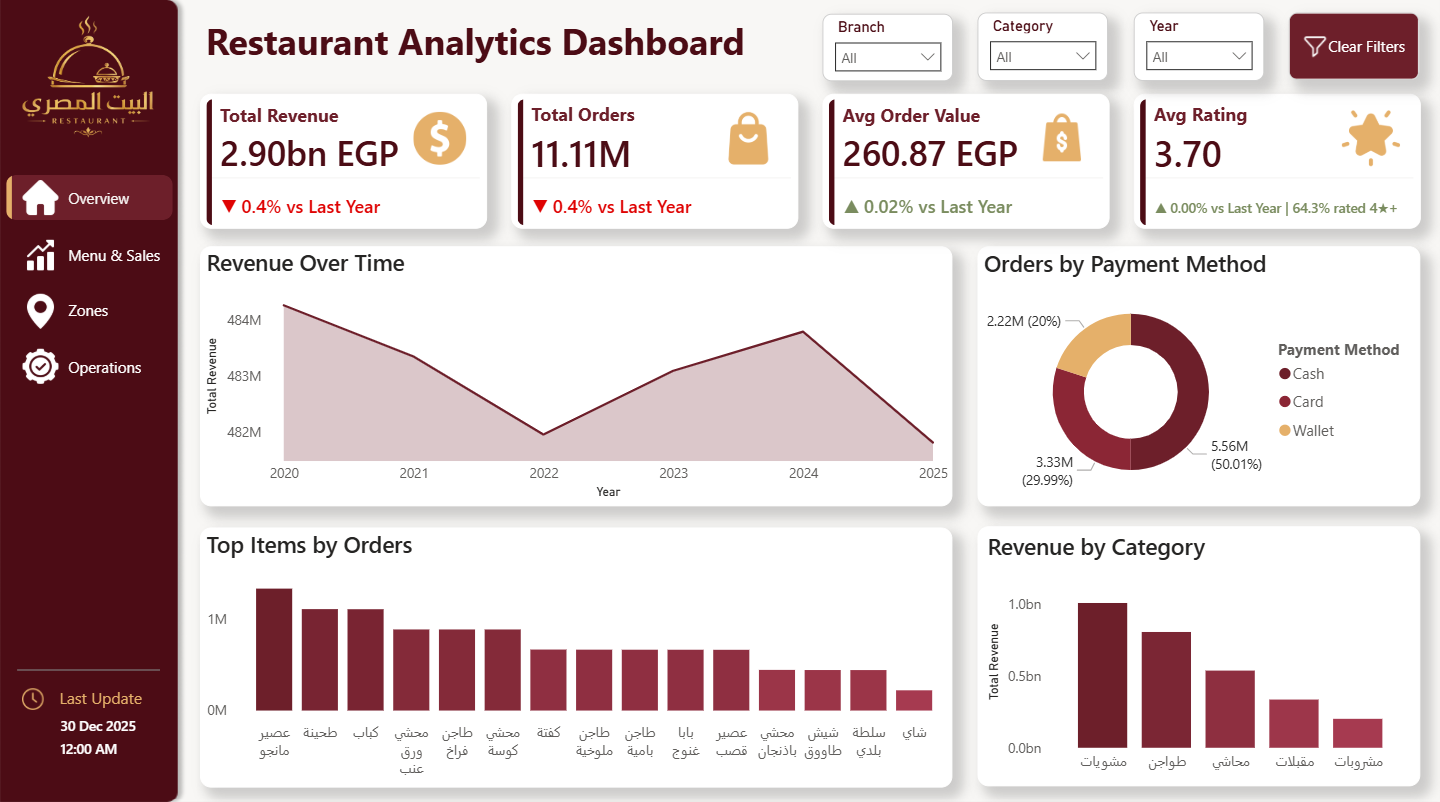

Layout of this report page (visuals, bound fields, positions):
{"tool":"powerbi","page":{"name":"Overview","canvas":[1280,720],"ordinal":0},"visuals":[{"type":"cardVisual","fields":{"Data":["Page1_Measures.Total Revenue Card"]},"box":[177.5,83.8,255,120],"z":0},{"type":"cardVisual","fields":{"Data":["Measures_Table.#Orders"]},"box":[454.2,83.5,255,120],"z":1000},{"type":"pageNavigator","box":[5.9,155.9,148.2,190],"z":2000},{"type":"image","box":[20.5,159.5,31.9,31.4],"z":3000},{"type":"image","box":[20.5,211,31.9,31.4],"z":4000},{"type":"image","box":[20.5,261,31.9,31.4],"z":5000},{"type":"image","box":[20.5,310.5,31.9,31.4],"z":6000},{"type":"textbox","box":[177.5,11.2,1085,60],"z":7000},{"type":"cardVisual","fields":{"Data":["Measures_Table.Avg Rating"]},"box":[1007.5,83.8,255,120],"z":8000},{"type":"lineChart","title":"Revenue Over Time","fields":{"Category":["restaurant_final.Year"],"Y":["Measures_Table.Total Revenue"]},"box":[177.8,218.9,668.9,231.1],"z":9000},{"type":"donutChart","title":"Orders by Payment Method","fields":{"Y":["Measures_Table.#Orders"],"Category":["restaurant_final.payment_method"]},"box":[868.9,218.9,393.3,231.1],"z":10000},{"type":"clusteredColumnChart","title":"Revenue by Category","fields":{"Category":["restaurant_final.category"],"Y":["Measures_Table.Total Revenue"]},"box":[868.9,467.8,393.3,231.1],"z":11000},{"type":"clusteredColumnChart","title":"Top Items by Orders","fields":{"Category":["restaurant_final.item_name"],"Y":["Measures_Table.#Orders"]},"box":[177.8,468.9,668.9,231.1],"z":12000},{"type":"shape","box":[15.6,583.3,126.7,24.4],"z":13000},{"type":"slicer","fields":{"Values":["restaurant_final.branch"]},"box":[731,12,116,60],"z":14000},{"type":"slicer","fields":{"Values":["restaurant_final.category"]},"box":[869.2,10.9,116.2,60.5],"z":15000},{"type":"slicer","fields":{"Values":["restaurant_final.Year"]},"box":[1007.6,10.9,116.2,60.5],"z":16000},{"type":"actionButton","box":[1146,11,116,60],"z":17000},{"type":"actionButton","box":[15.5,608.2,28.2,27.3],"z":18000},{"type":"textbox","box":[48.1,608.1,94.4,27.5],"z":19000},{"type":"image","box":[8.2,11.8,140.9,120.9],"z":20000},{"type":"cardVisual","fields":{"Data":["Measures_Table.Last Updated"]},"box":[36.7,622,106,61.3],"z":21000},{"type":"cardVisual","fields":{"Data":["Measures_Table.Avg Order Value Card"]},"box":[731.2,83.8,255,120],"z":22000}]}

Visuals, with their boxes in screenshot pixels (x1, y1, x2, y2), scaled from the page's 1280x720 canvas onto the 1440x802 screenshot:
cardVisual - Page1_Measures.Total Revenue Card: x1=200, y1=93, x2=487, y2=227
cardVisual - Measures_Table.#Orders: x1=511, y1=93, x2=798, y2=227
pageNavigator: x1=7, y1=174, x2=173, y2=385
image: x1=23, y1=178, x2=59, y2=213
image: x1=23, y1=235, x2=59, y2=270
image: x1=23, y1=291, x2=59, y2=326
image: x1=23, y1=346, x2=59, y2=381
textbox: x1=200, y1=12, x2=1420, y2=79
cardVisual - Measures_Table.Avg Rating: x1=1133, y1=93, x2=1420, y2=227
"Revenue Over Time" lineChart: x1=200, y1=244, x2=953, y2=501
"Orders by Payment Method" donutChart: x1=978, y1=244, x2=1420, y2=501
"Revenue by Category" clusteredColumnChart: x1=978, y1=521, x2=1420, y2=778
"Top Items by Orders" clusteredColumnChart: x1=200, y1=522, x2=953, y2=780
shape: x1=18, y1=650, x2=160, y2=677
slicer - restaurant_final.branch: x1=822, y1=13, x2=953, y2=80
slicer - restaurant_final.category: x1=978, y1=12, x2=1109, y2=80
slicer - restaurant_final.Year: x1=1134, y1=12, x2=1264, y2=80
actionButton: x1=1289, y1=12, x2=1420, y2=79
actionButton: x1=17, y1=677, x2=49, y2=708
textbox: x1=54, y1=677, x2=160, y2=708
image: x1=9, y1=13, x2=168, y2=148
cardVisual - Measures_Table.Last Updated: x1=41, y1=693, x2=161, y2=761
cardVisual - Measures_Table.Avg Order Value Card: x1=823, y1=93, x2=1109, y2=227
